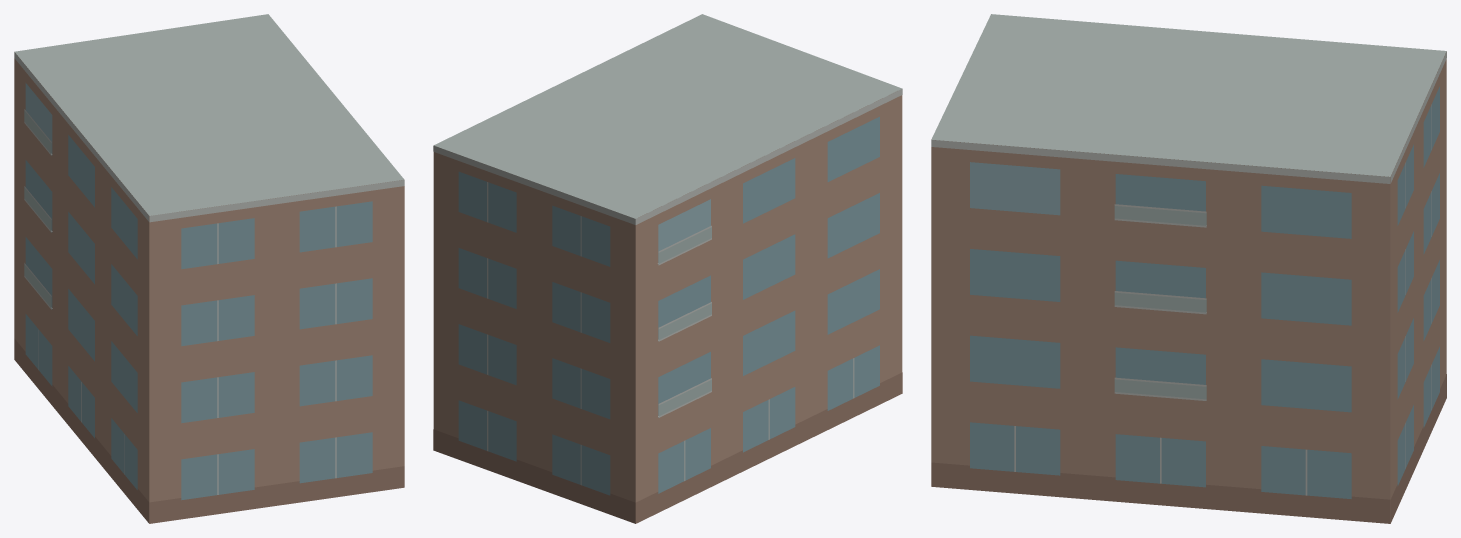
File: survey-upis-33037220.glb
3 views of the same model, side by side, from view 1: azimuth 30°, elevation 25°; view 2: azimuth 150°, elevation 25°; view 3: azimuth 270°, elevation 25° (orthographic). The views are drawn at different scales.
Visible parts, largest first — view 1: survey-upis-33037220.tmp; view 2: survey-upis-33037220.tmp; view 3: survey-upis-33037220.tmp.
Boxes of the visible parts, x1=… form: survey-upis-33037220.tmp: x1=14, y1=14, x2=404, y2=523; survey-upis-33037220.tmp: x1=433, y1=14, x2=902, y2=523; survey-upis-33037220.tmp: x1=931, y1=14, x2=1446, y2=523.
Size of the model in its own units: 11.89 by 11.8 by 15.9.
